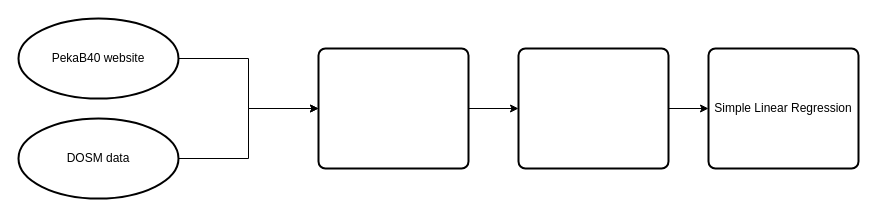
Some shapes in this 876 by 216 pixel diagram are drawn without their labels. The shapes that lost their labels are listed below. From the top down, each one's centre as x and y in pixels, then its label:
At point (393, 108): "Data processing".
At point (593, 108): "Exploratory Data Analysis".
